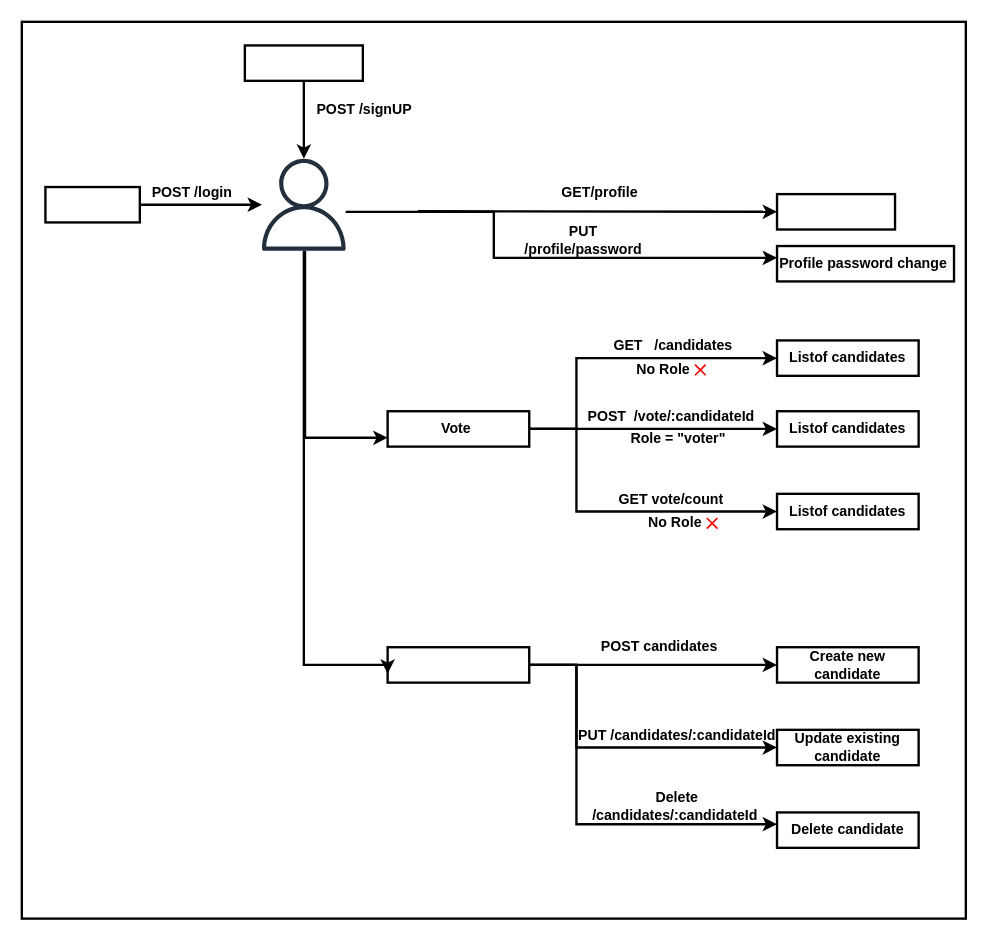
Some shapes in this 986 by 939 pixel diagram are drawn without their labels. Each missing label, with the box of its shape:
Access profile: (775, 192, 896, 230)
Candidate Management: (386, 645, 530, 683)
Create user: (243, 44, 363, 81)
Login user: (44, 185, 140, 223)
